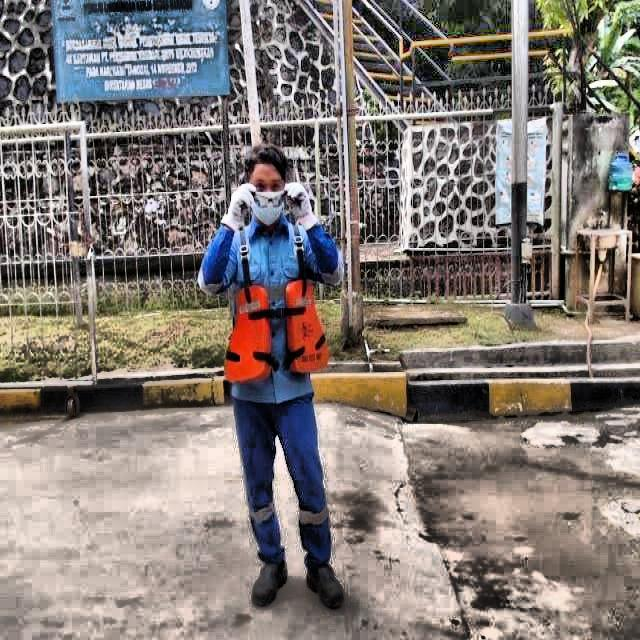safety_jacket: (225, 285, 328, 380)
